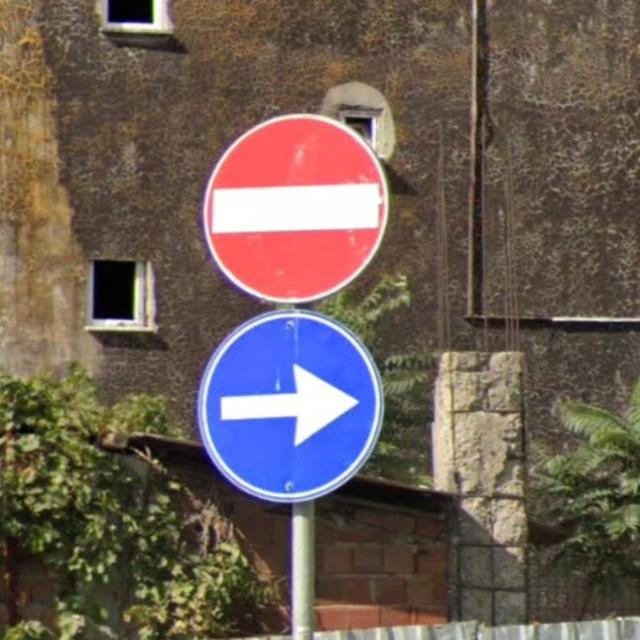girisyok: (201, 114, 387, 301)
sag: (196, 310, 383, 497)
